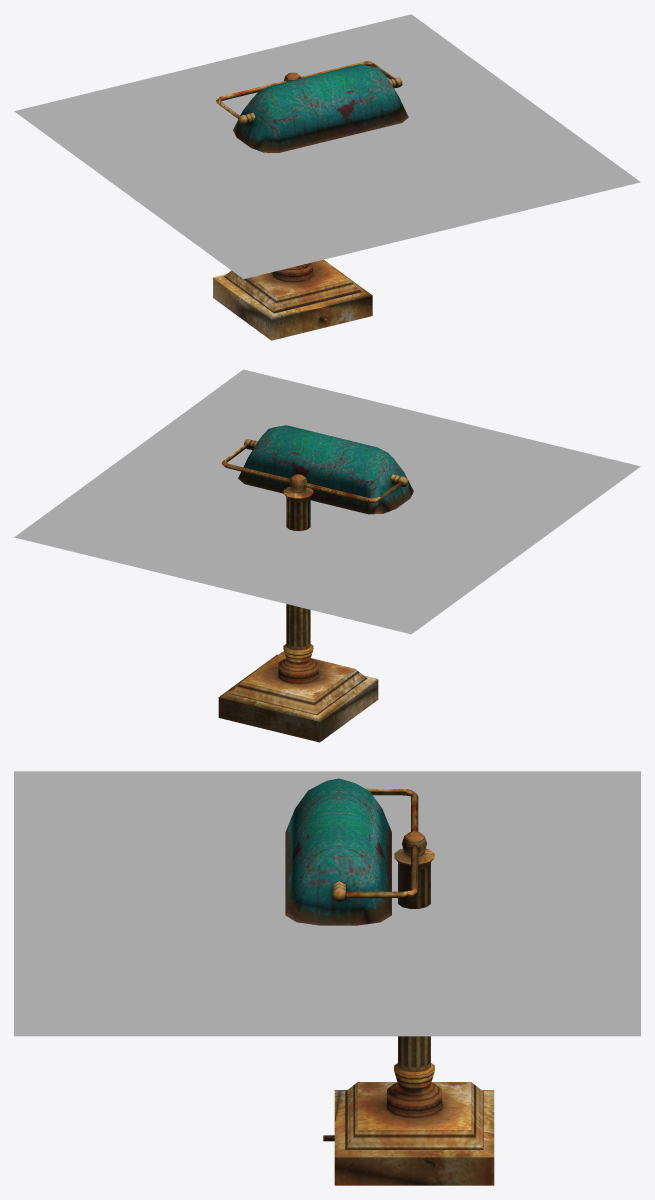
The model's file is lamps_older_desklamp.dae.
The picture shows the model from 3 angles, top to bottom: view 1: azimuth 30°, elevation 25°; view 2: azimuth 150°, elevation 25°; view 3: azimuth 270°, elevation 25°; orthographic projection. The views are drawn at different scales.
Visible parts, largest first — view 1: _bb_light_white_halo02_halo01, olderdesklamp; view 2: _bb_light_white_halo02_halo01, olderdesklamp; view 3: _bb_light_white_halo02_halo01, olderdesklamp.
Part boxes in pixels (x1,y1,x2,y2): _bb_light_white_halo02_halo01: [14, 14, 640, 279]; olderdesklamp: [213, 61, 408, 340]; _bb_light_white_halo02_halo01: [14, 369, 640, 634]; olderdesklamp: [218, 425, 413, 742]; _bb_light_white_halo02_halo01: [14, 771, 640, 1036]; olderdesklamp: [285, 778, 494, 1185].
Size of what is drawn, in the model's own units: 0.4991 by 0.3003 by 0.4991.
